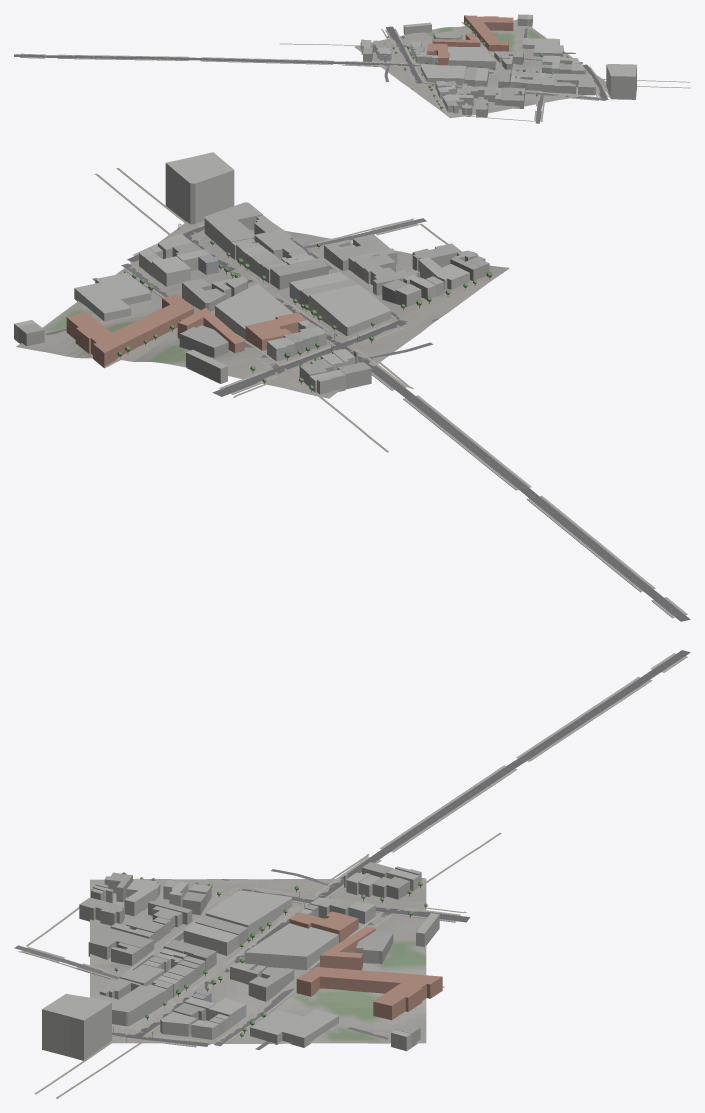
Rendered from tile_-5_-4.glb.
3 views of the same model, one above another, from view 1: azimuth 30°, elevation 25°; view 2: azimuth 150°, elevation 25°; view 3: azimuth 270°, elevation 25° (orthographic). The views are drawn at different scales.
Parts seen in each view (by area): view 1: buildings, terrain, roads, sidewalks, paths, props; view 2: buildings, terrain, roads, sidewalks, paths, props; view 3: buildings, terrain, roads, sidewalks, paths, props.
Boxes of the visible parts, box(x1,y1,x2,y2) form: buildings: box(360, 14, 636, 117); terrain: box(354, 19, 607, 117); roads: box(14, 26, 608, 123); sidewalks: box(20, 28, 608, 120); paths: box(279, 22, 690, 121); props: box(387, 22, 604, 109); buildings: box(14, 152, 489, 396); terrain: box(16, 221, 509, 398); roads: box(45, 218, 690, 621); sidewalks: box(124, 219, 687, 618); paths: box(94, 168, 496, 452); props: box(117, 223, 492, 392); buildings: box(42, 862, 442, 1060); terrain: box(90, 878, 426, 1043); roads: box(14, 650, 690, 1050); sidewalks: box(21, 653, 687, 1047); paths: box(18, 833, 501, 1098); props: box(113, 872, 427, 1041).
Bounding box in the file's own units: 761 × 34.26 × 516.
